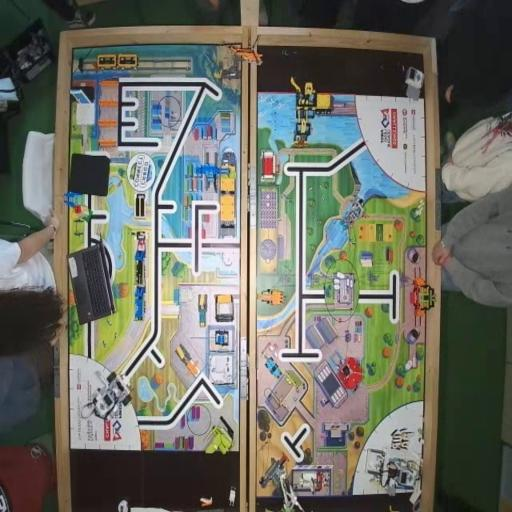lego_robot: (364, 447, 422, 497), (80, 370, 131, 422)
